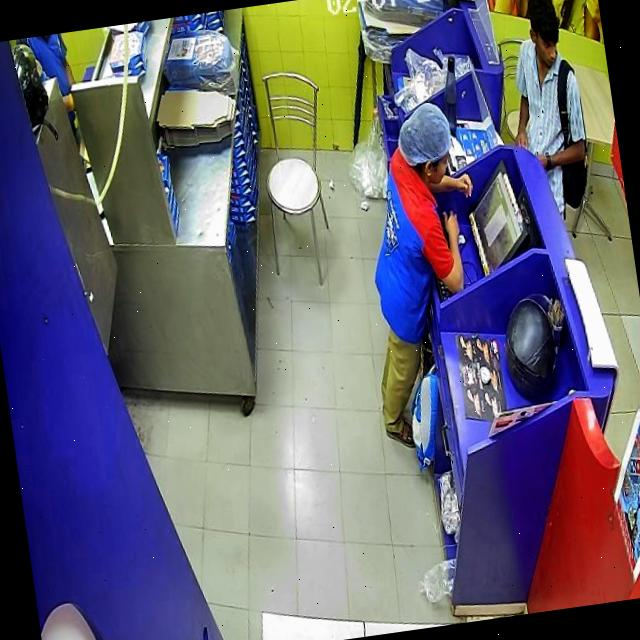helmet: (506, 292, 558, 400)
